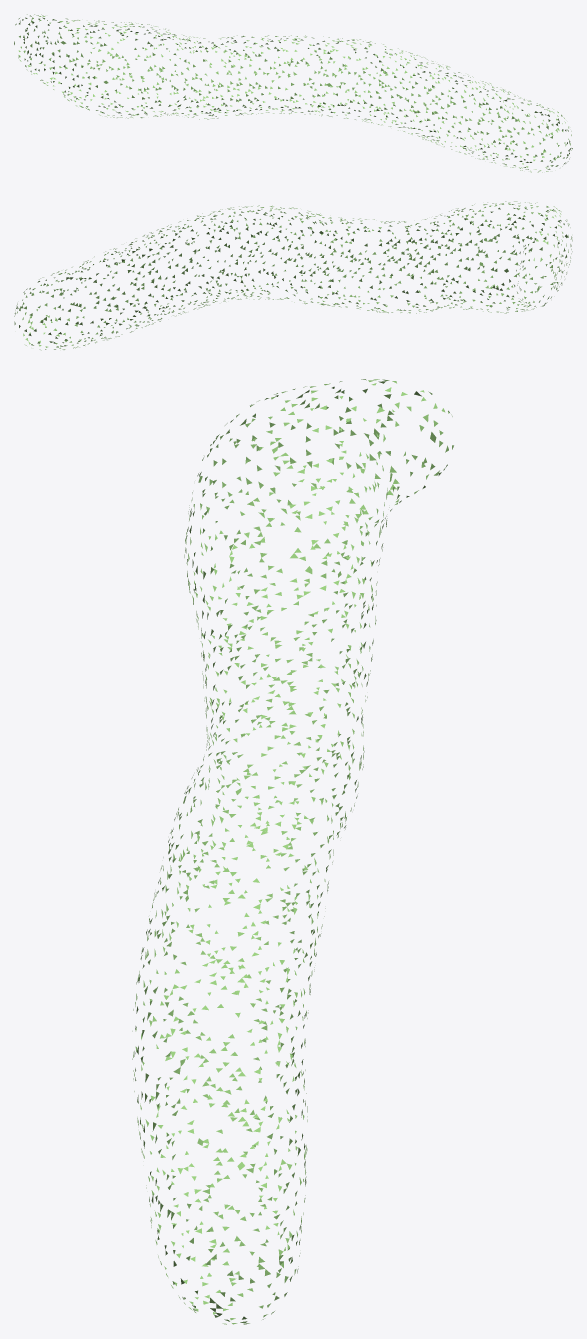
The model's file is morph_014.glb.
3 views of the same model, one above another, from view 1: azimuth 30°, elevation 25°; view 2: azimuth 150°, elevation 25°; view 3: azimuth 270°, elevation 25° (orthographic). The views are drawn at different scales.
Bounding box in the file's own units: 119 × 54.56 × 32.77.
